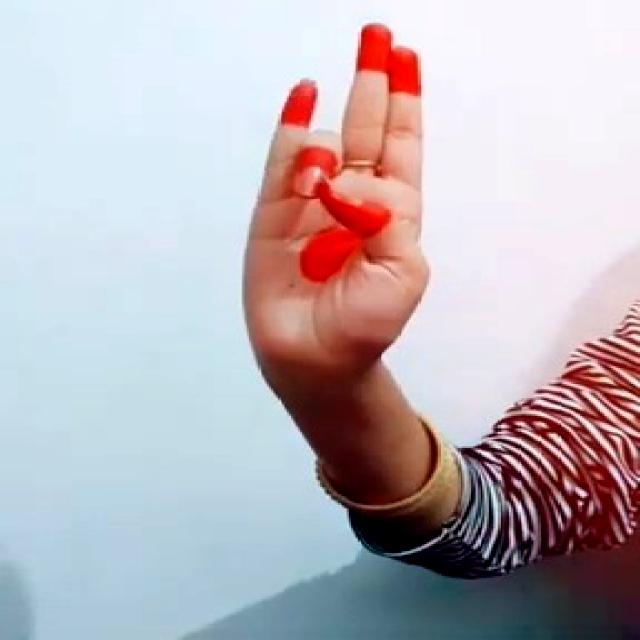Mayura: (202, 6, 490, 390)
bangle: (297, 409, 466, 532)
